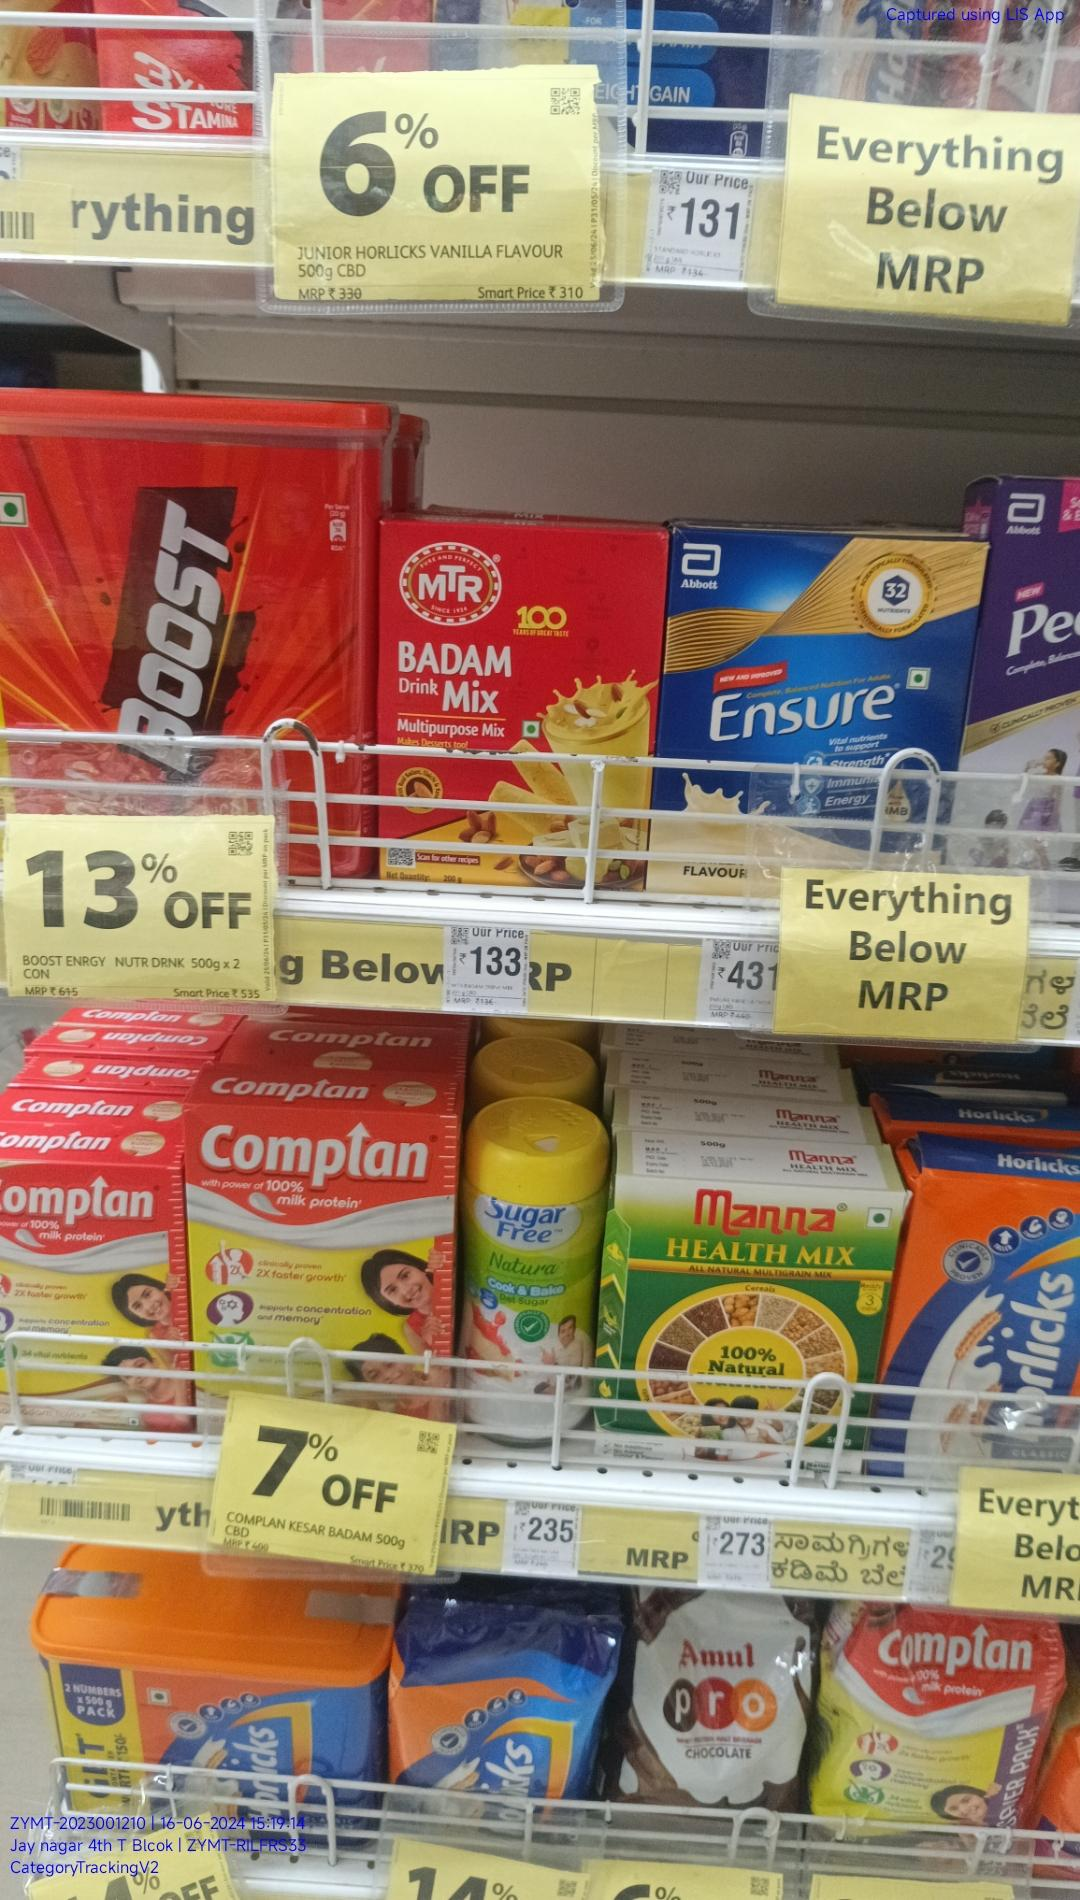COMPLAN_KESAR_BADAM_500_GMS_PACK: (192, 1099, 453, 1387)
COMPLAN_RC_POUCH_700_GMS_12: (820, 1599, 1040, 1877)
ENSURE_VANILLA_400_G_PACK: (672, 536, 981, 898)
HORLICK_MALT_1_KG_CONTAINER: (44, 1625, 387, 1833)
